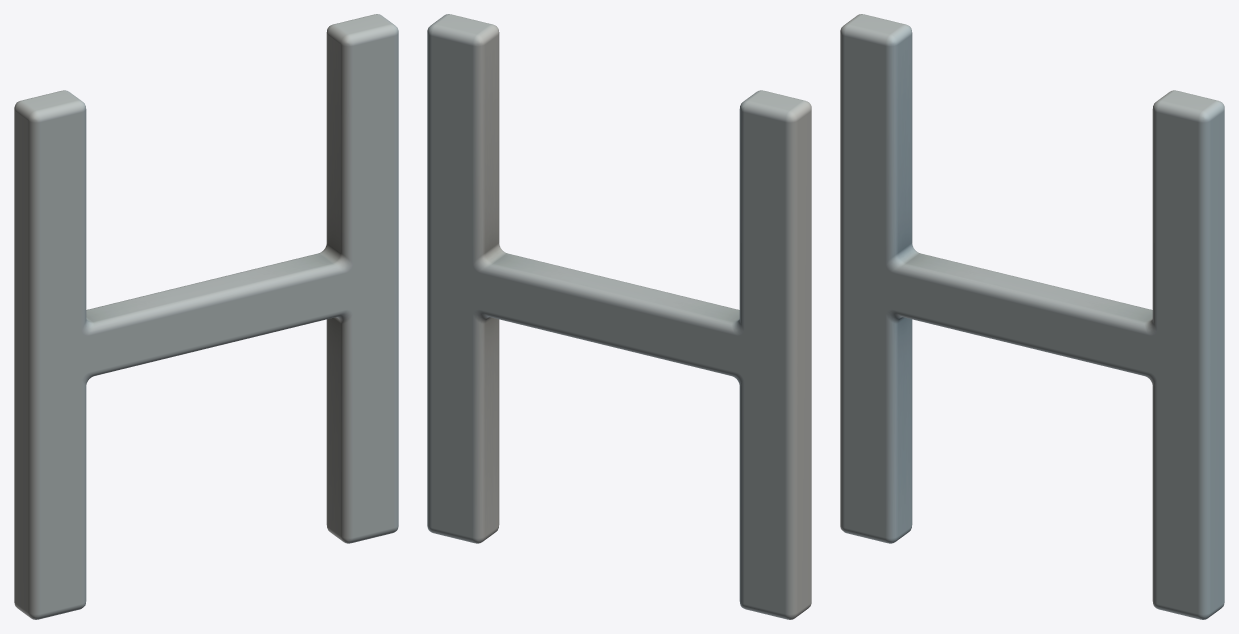
File: modelH.glb
3 renders of one model, left to right at view 1: azimuth 30°, elevation 25°; view 2: azimuth 150°, elevation 25°; view 3: azimuth 330°, elevation 25°, orthographic.
Visible parts, largest first — view 1: H.1; view 2: H.1; view 3: H.1.
Part boxes in pixels (box(x1,y1,x2,y2)): H.1: box(14, 14, 398, 619); H.1: box(427, 14, 811, 619); H.1: box(840, 14, 1224, 619).
Size of the model in its own units: 0.2159 by 0.284 by 0.0223.
1 material, 1 textured.
